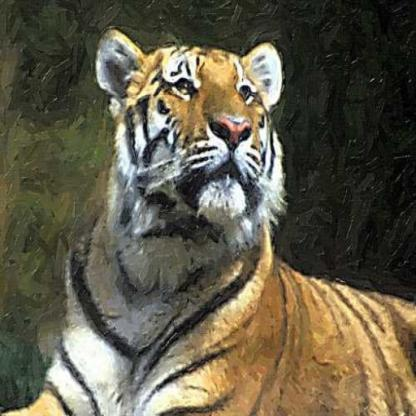Tiger: (8, 15, 415, 415)
